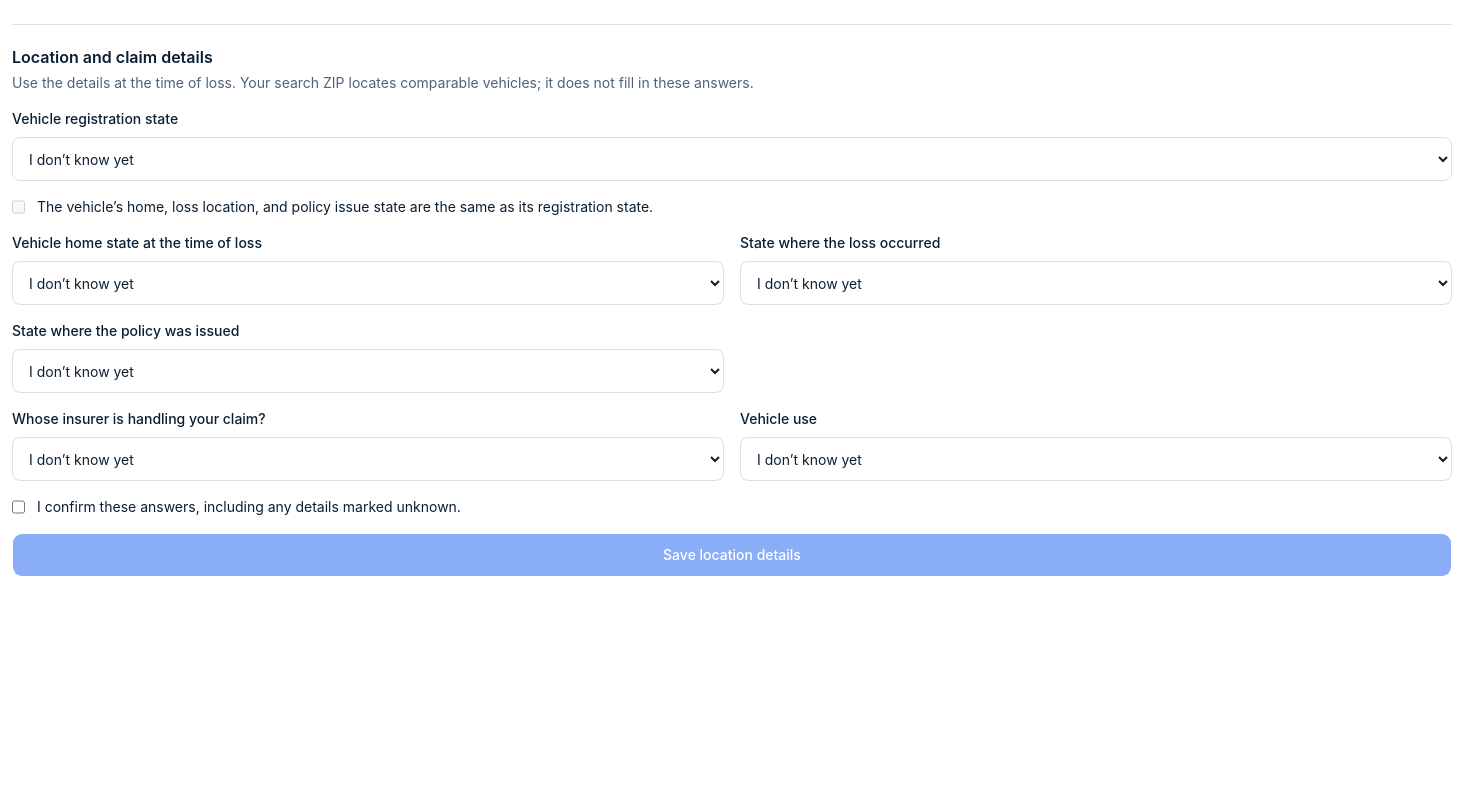
Test: product fact confirmation › allows confirmed unknowns and requires reload after stale revisions
This screenshot has width=1464, height=810.
What coordinates should you click on to do the following:
click the checkbox labelled "I confirm these answers"
I would click on:
 (18, 507)
Its box is [12,497,25,517].
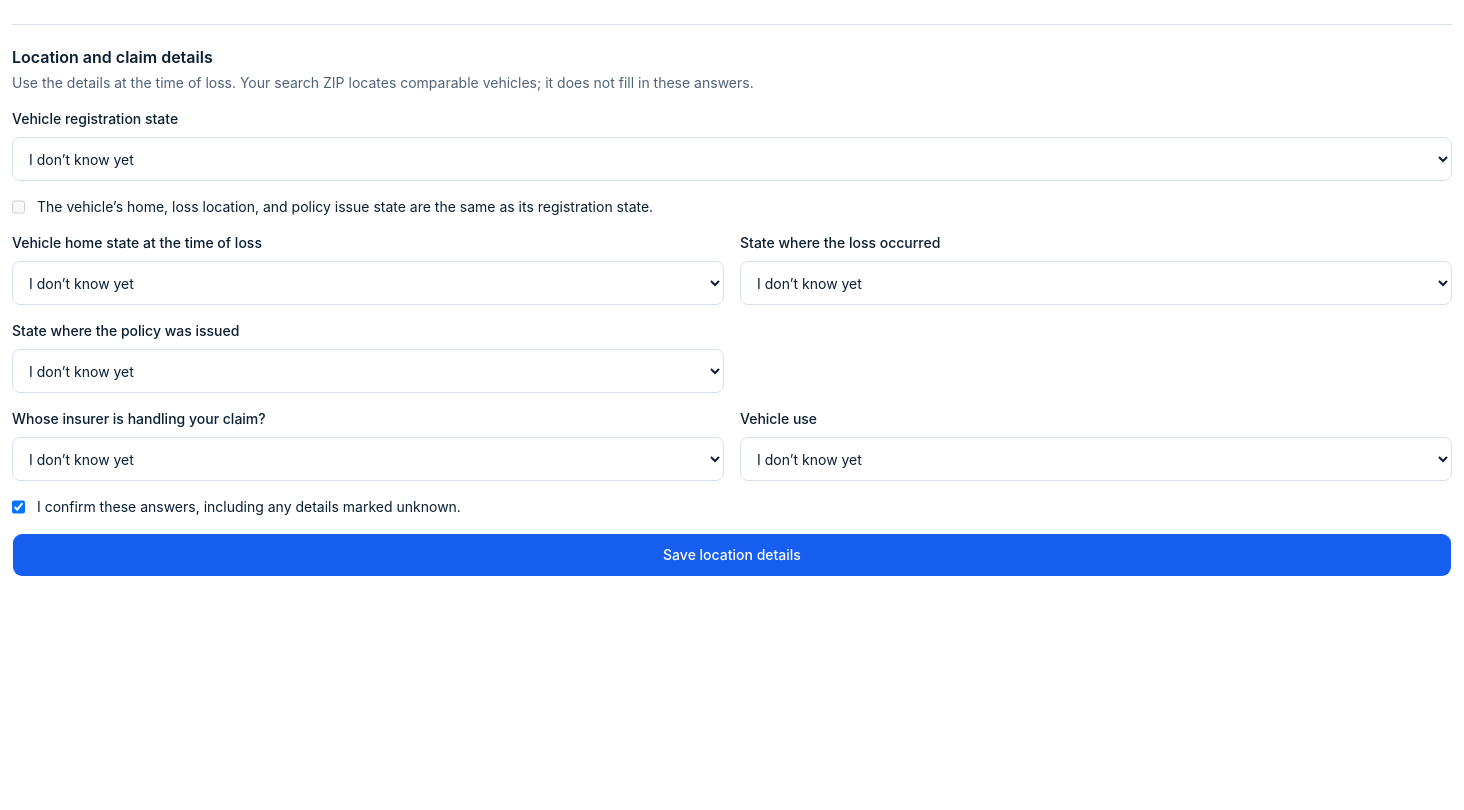
What coordinates should you click on to do the following:
click the button "Save location details"
I would click on:
 (732, 555)
Its box is [12,533,1452,577].
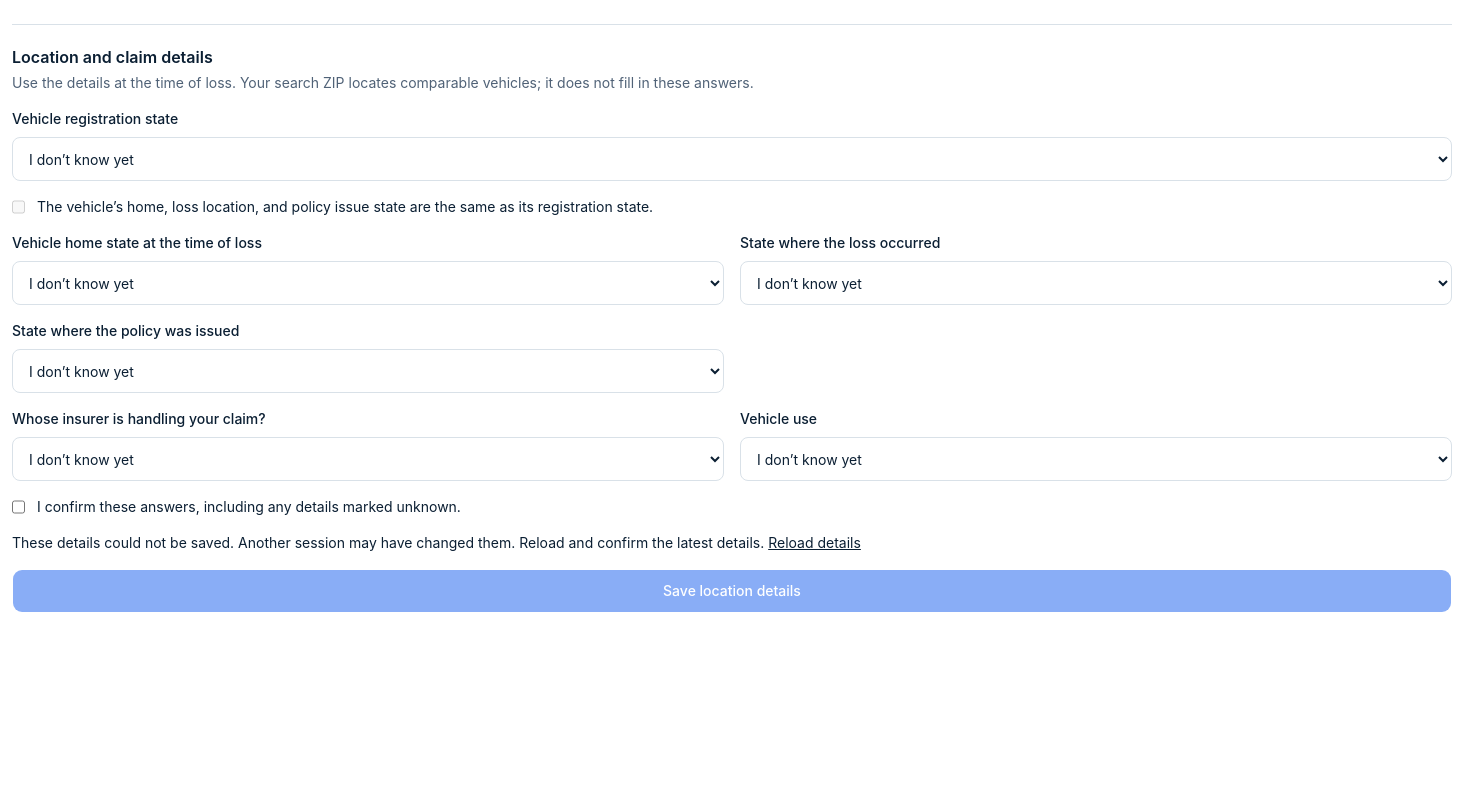
Expected: the message is shown, [12,533,861,553]
Expected: the button "Save location details" is disabled, [12,569,1452,613]
